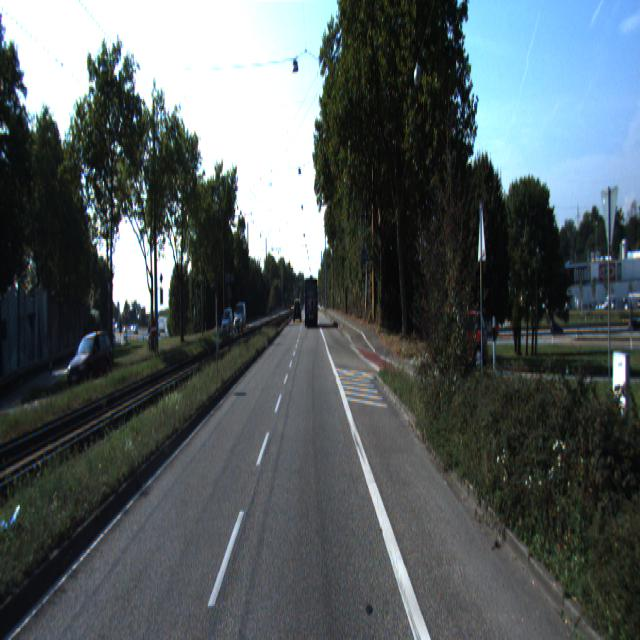Car: (438, 304, 490, 370), (66, 331, 116, 389), (304, 276, 319, 328), (220, 310, 234, 337)
